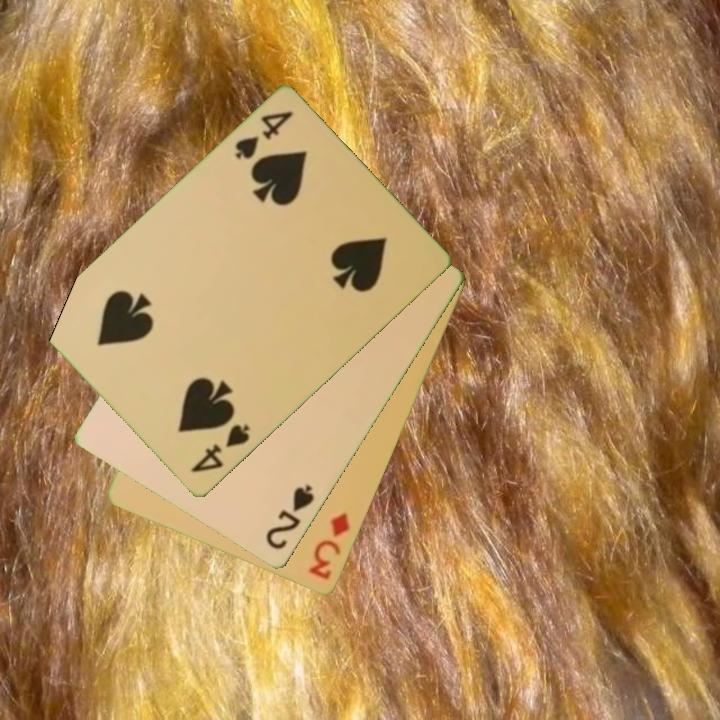2s: (262, 481, 318, 553)
3d: (306, 509, 353, 583)
4s: (231, 108, 296, 164), (187, 421, 253, 476)
